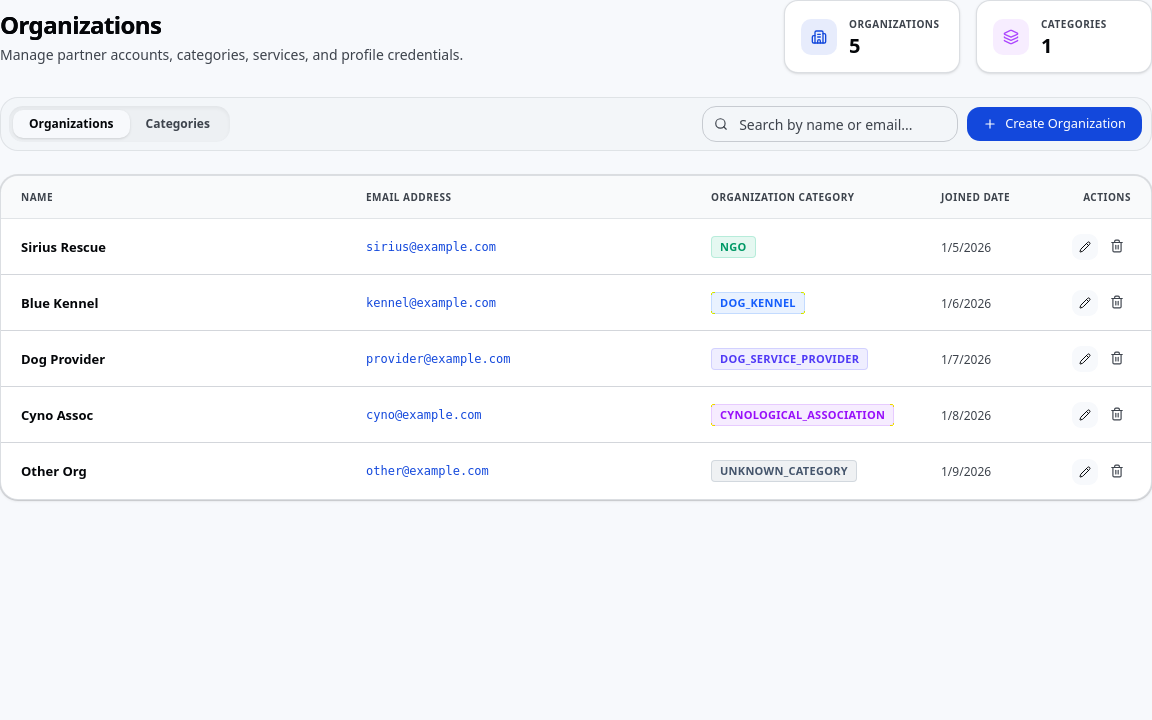
Test: OrganizationsTable Component › should handle create organization modal X button close
Note: Open Modal
What coordinates should you click on to do the following:
click the button "Create Organization"
I would click on:
 (1055, 124)
Its box is x1=966 y1=106 x2=1143 y2=142.
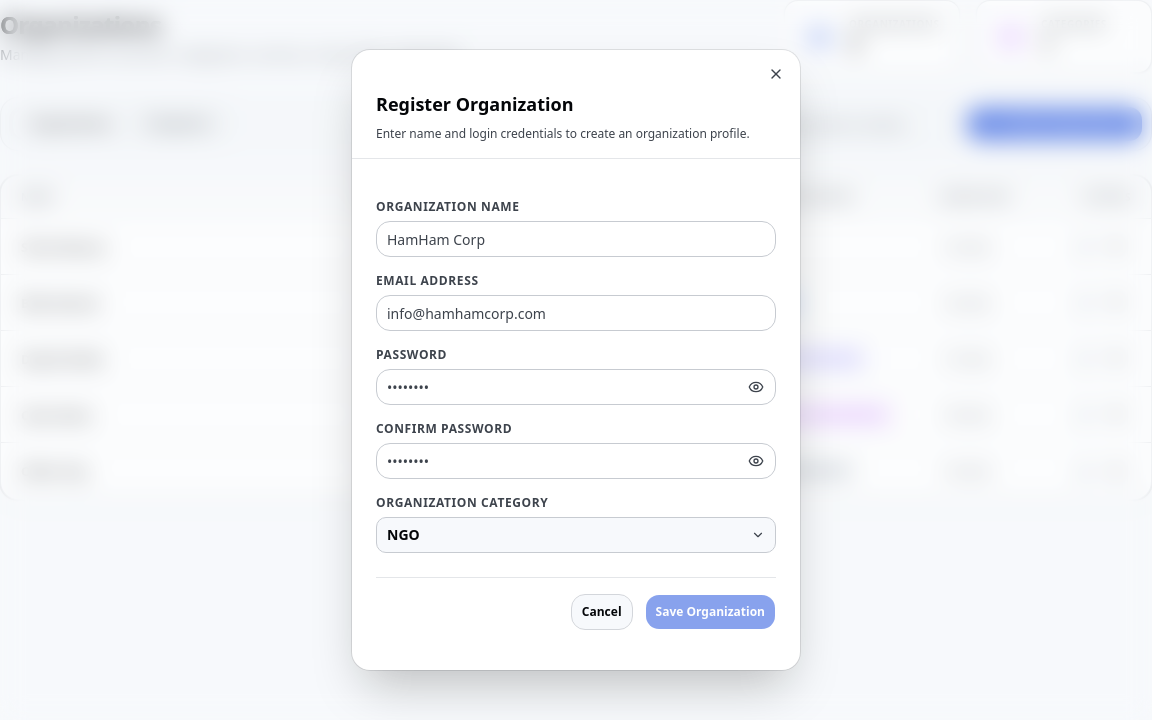
Result: the text "Enter name and login credentials to create an organization profile." is shown at x1=376 y1=126 x2=776 y2=142
Result: the 1st button is shown
What coordinates should you click on to do the following:
click the 1st button
I would click on:
 (776, 74)
Its box is x1=768 y1=66 x2=784 y2=82.
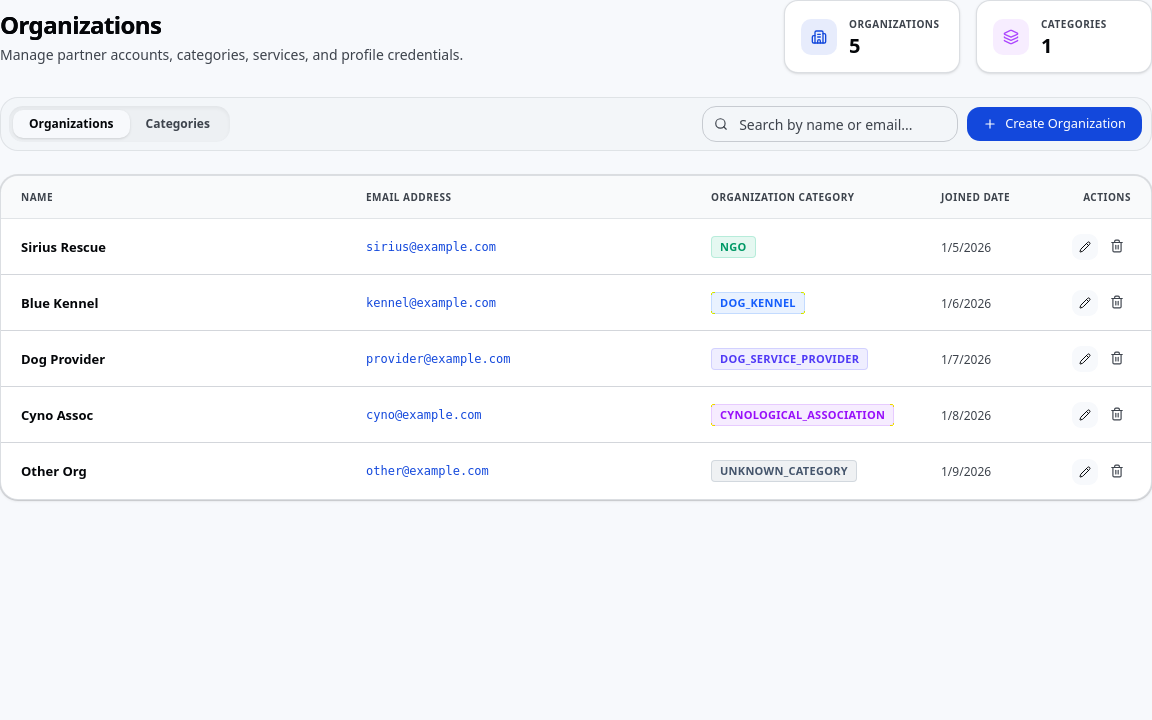
Result: the text "Enter name and login credentials to create an organization profile." is gone
